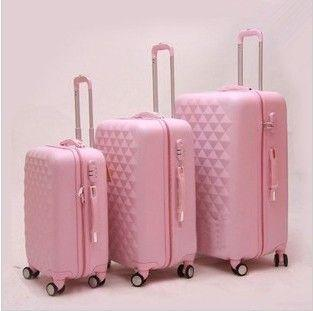suitcase: (170, 81, 291, 274), (91, 110, 199, 280), (20, 136, 111, 293)
